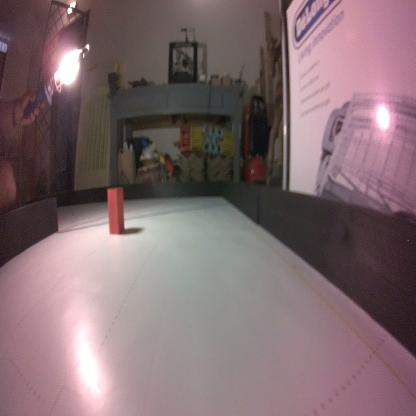red: (106, 186, 124, 236)
